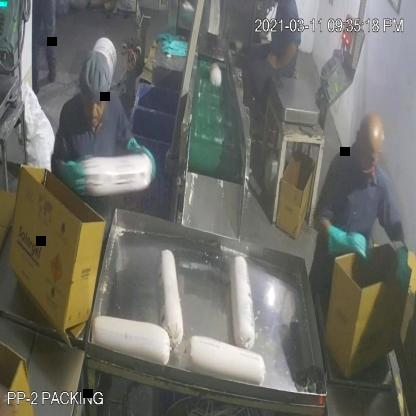glove: (329, 209, 373, 270), (390, 234, 416, 295)
no_glove: (264, 35, 304, 77)
